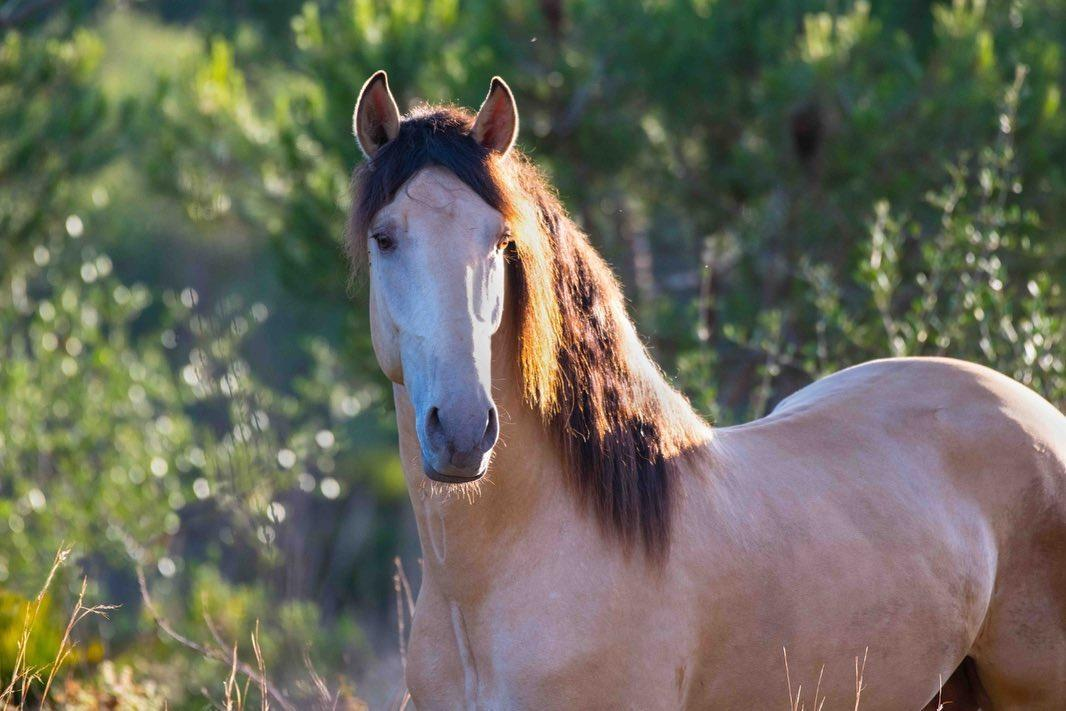horse: (343, 68, 1064, 709)
